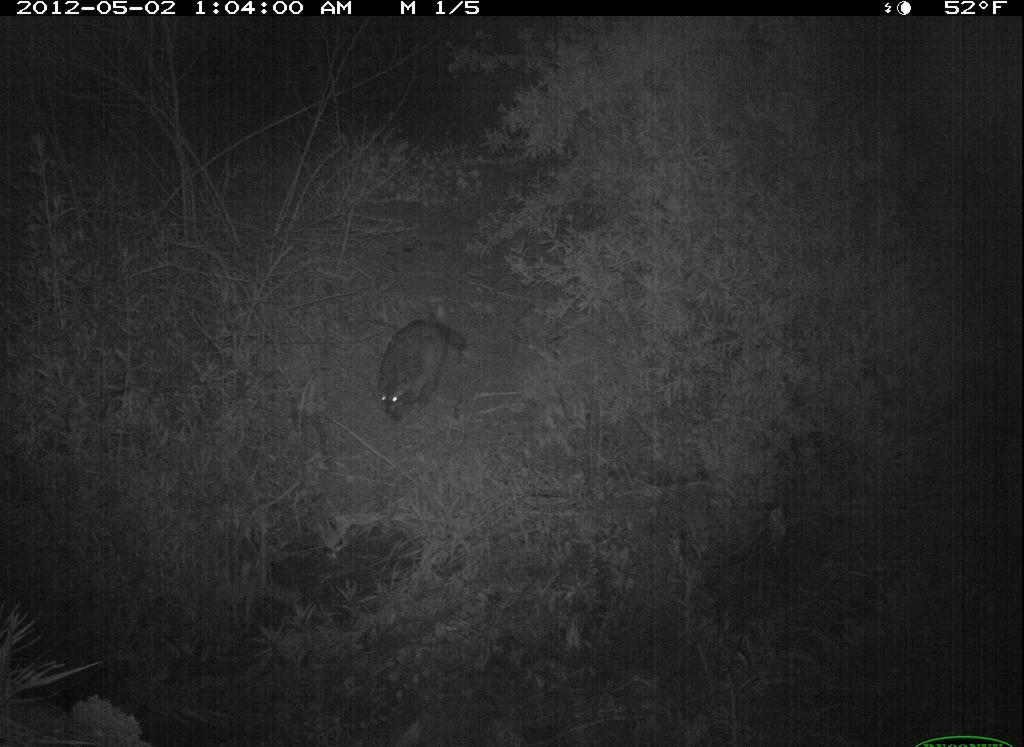raccoon: (367, 313, 474, 423)
